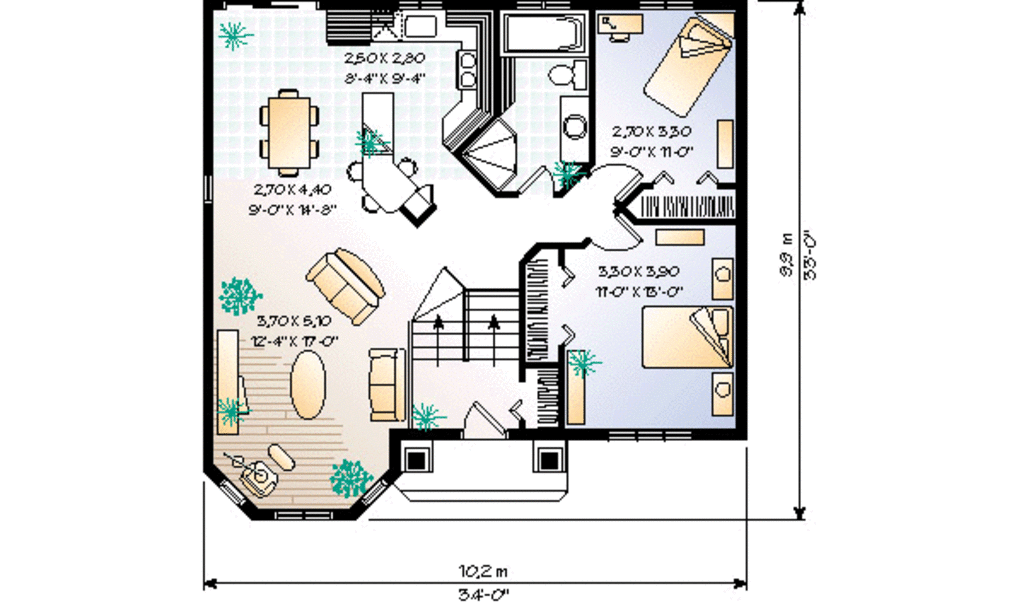bed: (643, 14, 735, 119), (638, 300, 734, 375)
dining_table: (256, 78, 324, 186)
door: (586, 214, 648, 257), (457, 397, 507, 442), (590, 164, 640, 203), (520, 163, 559, 202)
kitchen_bar: (335, 81, 451, 236)
large_sink: (545, 57, 592, 98)
large_sofa: (304, 249, 388, 329), (363, 343, 409, 423)
small_sink: (558, 95, 595, 168)
stairs: (410, 287, 522, 367)
tub: (499, 11, 585, 56)
twin_sink: (450, 45, 486, 94)
window: (602, 427, 695, 444), (353, 475, 396, 510), (273, 503, 334, 524), (198, 171, 219, 208)
